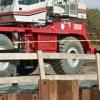Tractor: (5, 6, 100, 73)
